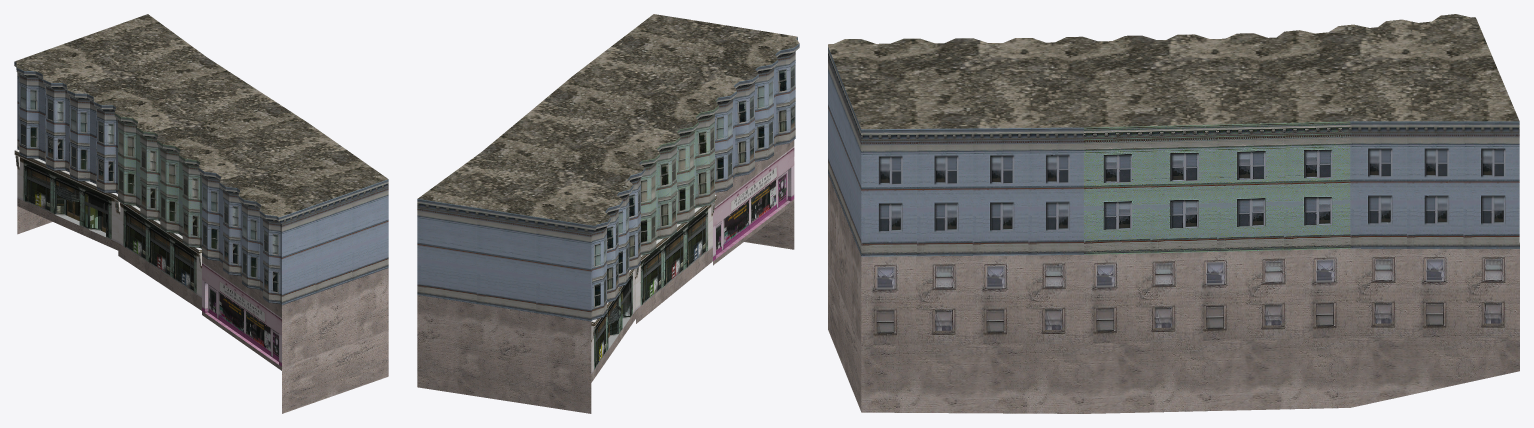
Rendered from queens_02_sfs.obj.
3 renders of one model, left to right at view 1: azimuth 30°, elevation 25°; view 2: azimuth 150°, elevation 25°; view 3: azimuth 270°, elevation 25°, orthographic. The views are drawn at different scales.
Parts seen in each view (by area): view 1: queens_02_SFS; view 2: queens_02_SFS; view 3: queens_02_SFS.
Part boxes in pixels (x1,y1,x2,y2): queens_02_SFS: (14, 14, 388, 413); queens_02_SFS: (417, 14, 799, 413); queens_02_SFS: (828, 14, 1519, 413).
Bounding box in the file's own units: 21.47 × 24.86 × 54.42.
Materials: 12 (12 with a texture image).
